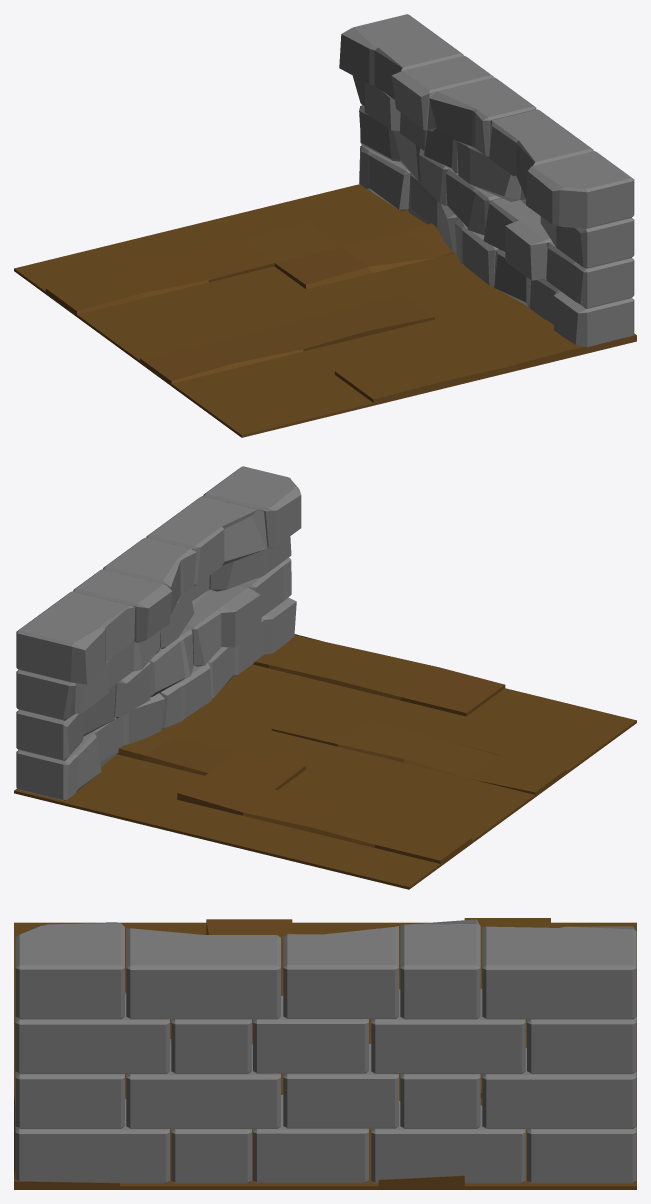
Rendered from maze_one_wall.fbx.
The picture shows the model from 3 angles, top to bottom: view 1: azimuth 30°, elevation 25°; view 2: azimuth 150°, elevation 25°; view 3: azimuth 270°, elevation 25°; orthographic projection. The views are drawn at different scales.
Visible parts, largest first — view 1: Floor, Wall; view 2: Floor, Wall; view 3: Wall, Floor.
Boxes of the visible parts, x1,y1,x2,y2 form: Floor: [14, 184, 636, 437]; Wall: [339, 14, 634, 347]; Floor: [14, 634, 636, 889]; Wall: [16, 466, 301, 800]; Wall: [15, 919, 636, 1183]; Floor: [14, 918, 636, 1189].
Size of the model in its own units: 1550 by 610 by 1548.
